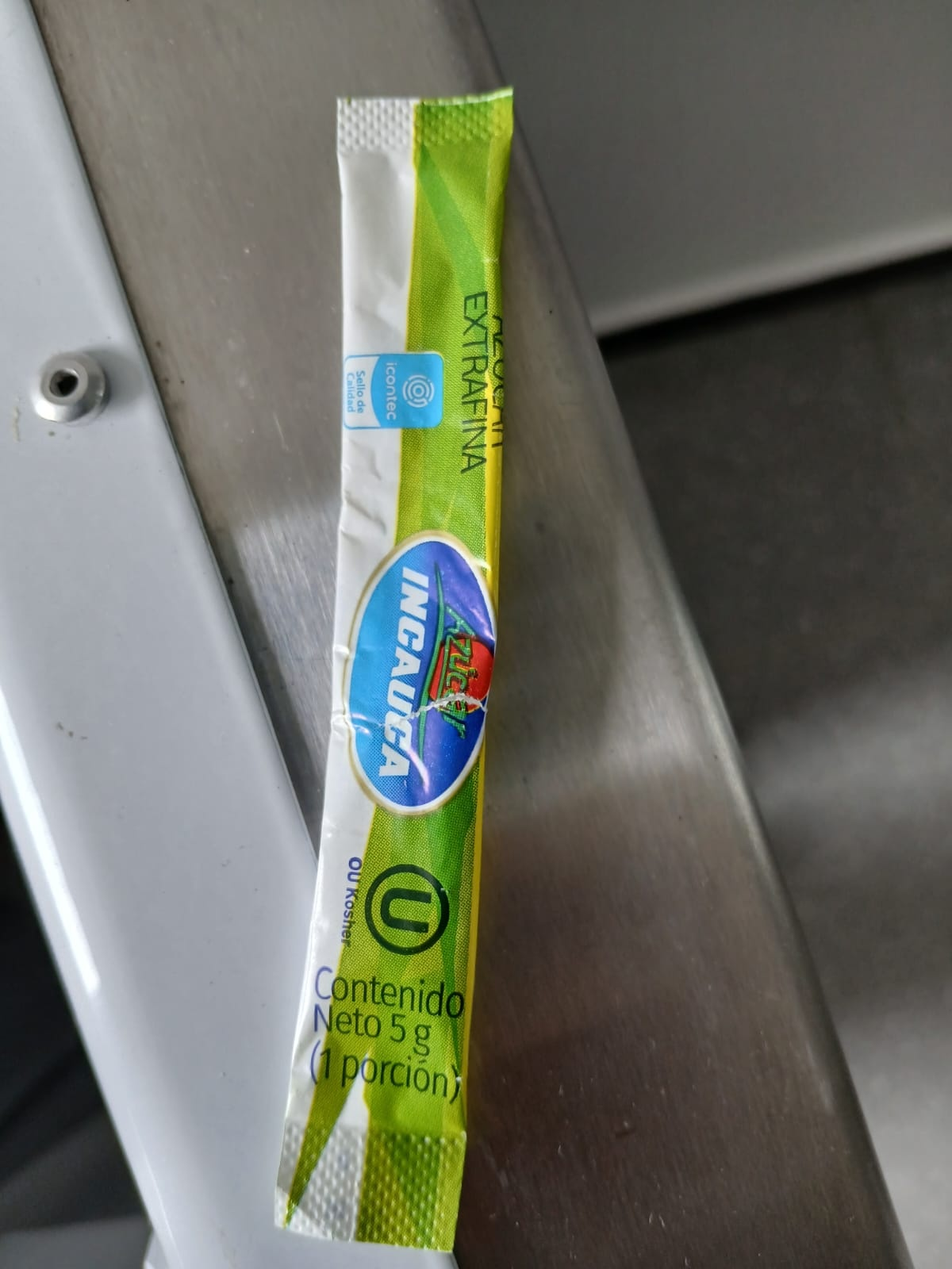Ordinario: (274, 87, 519, 1253)
